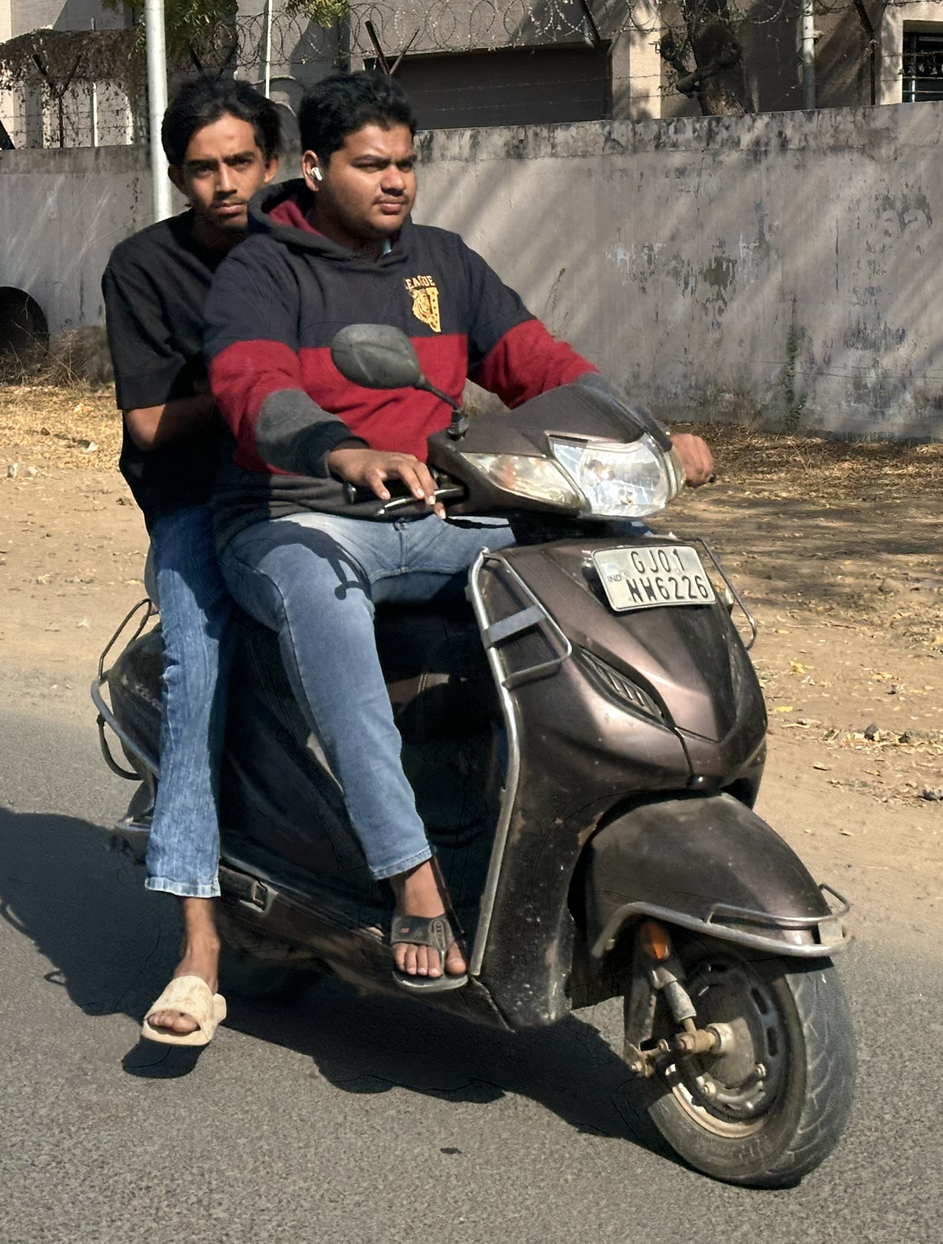BikeWithRider: (73, 58, 879, 1200)
NoHelmet: (285, 65, 436, 243), (147, 69, 292, 245)
